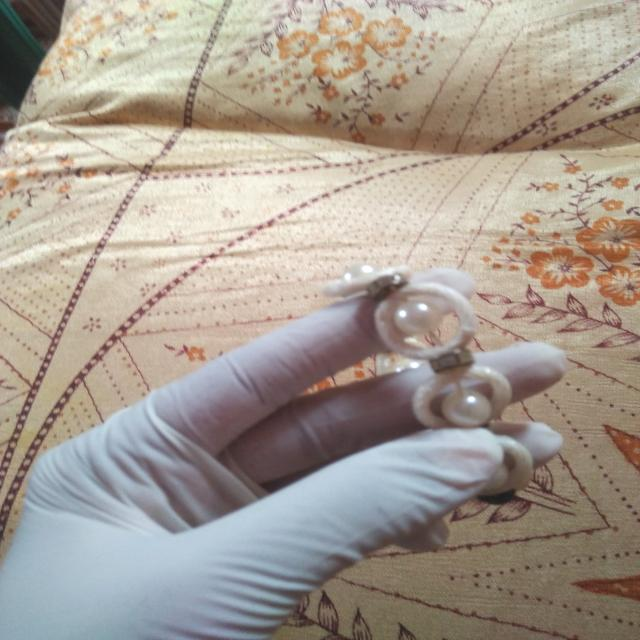glove: (4, 266, 578, 636)
